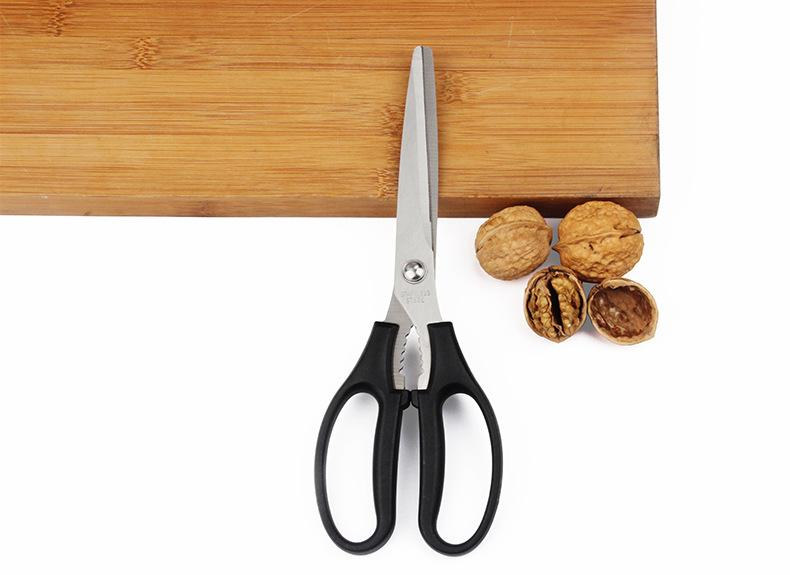scissor: (315, 46, 504, 557)
